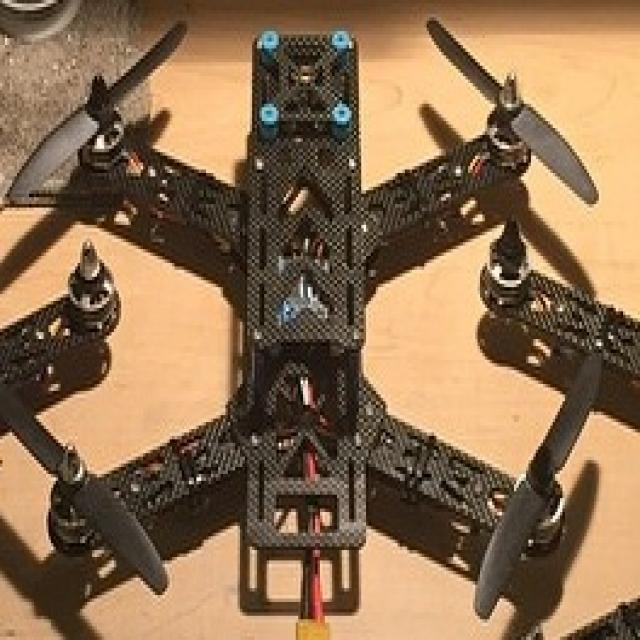drone: (4, 11, 615, 632)
